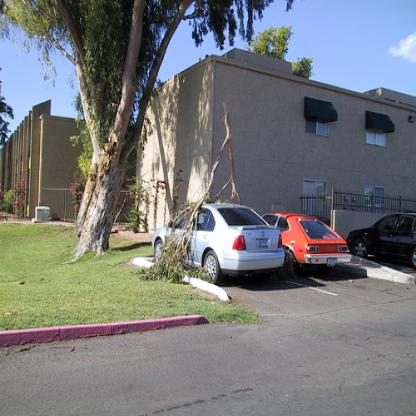car: (152, 202, 285, 285), (257, 212, 352, 278), (346, 210, 415, 270)
